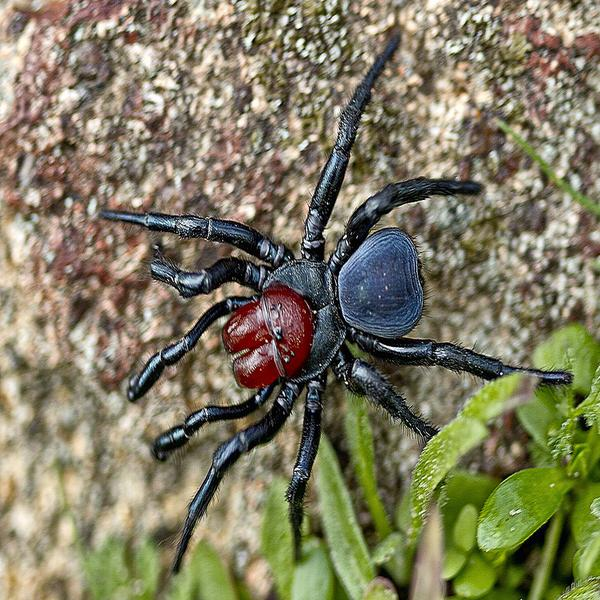Red Headed Mouse Spider: (108, 57, 519, 546)
